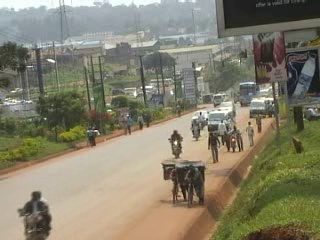Car: (188, 108, 214, 126), (216, 99, 239, 117)
Motorcycle: (14, 194, 55, 236), (166, 129, 184, 157), (225, 129, 239, 153), (190, 117, 203, 141), (196, 114, 206, 131)
